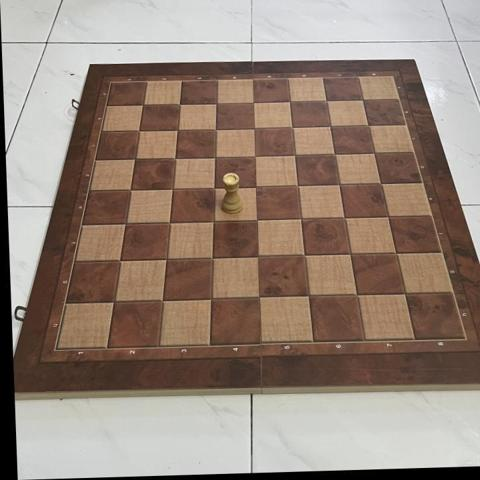xcorner: (354, 92, 371, 109), (317, 93, 334, 110), (280, 94, 297, 111), (243, 95, 260, 112), (206, 96, 223, 113), (170, 97, 187, 114), (133, 98, 150, 115), (359, 118, 376, 135), (321, 119, 338, 136), (282, 120, 299, 137), (244, 121, 261, 138), (206, 122, 223, 139), (168, 123, 185, 140), (129, 124, 146, 141), (365, 145, 382, 162), (325, 146, 342, 163), (285, 148, 302, 165), (245, 149, 262, 166), (205, 150, 222, 167), (165, 151, 182, 168), (125, 152, 142, 169), (372, 176, 389, 193), (330, 177, 347, 194), (288, 178, 305, 195), (246, 179, 263, 196), (204, 180, 221, 197), (162, 181, 179, 198), (121, 182, 138, 199), (379, 209, 396, 226), (335, 210, 352, 227), (291, 211, 308, 228), (247, 212, 264, 229), (203, 213, 220, 230), (160, 215, 177, 232), (116, 216, 133, 233), (386, 245, 403, 262), (340, 247, 357, 264), (294, 248, 311, 265), (248, 249, 265, 266), (202, 250, 219, 267), (156, 251, 173, 268), (111, 252, 128, 269), (395, 286, 412, 303), (346, 287, 363, 304), (298, 288, 315, 305), (249, 289, 266, 306), (201, 290, 218, 307), (153, 291, 170, 308), (105, 293, 122, 310)
